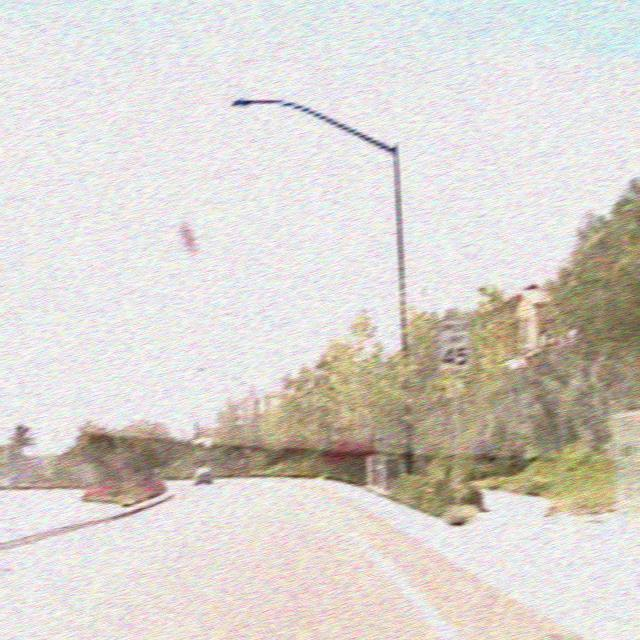speedLimit45: (436, 316, 470, 369)
